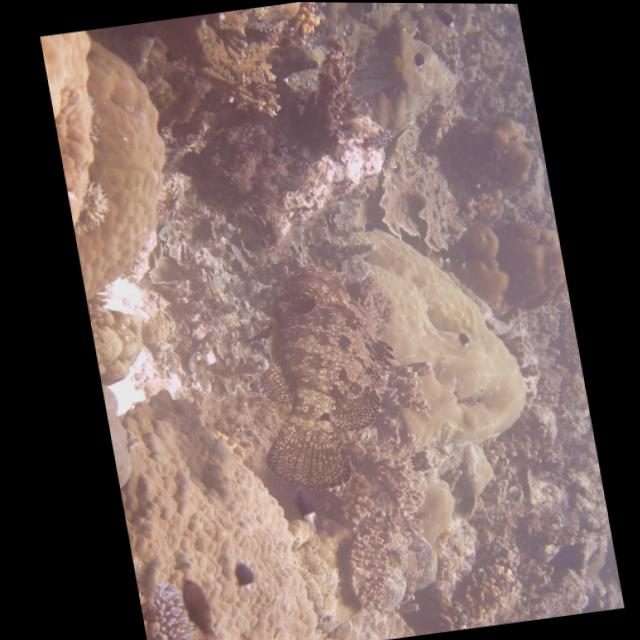Groupers: (232, 253, 417, 499)
